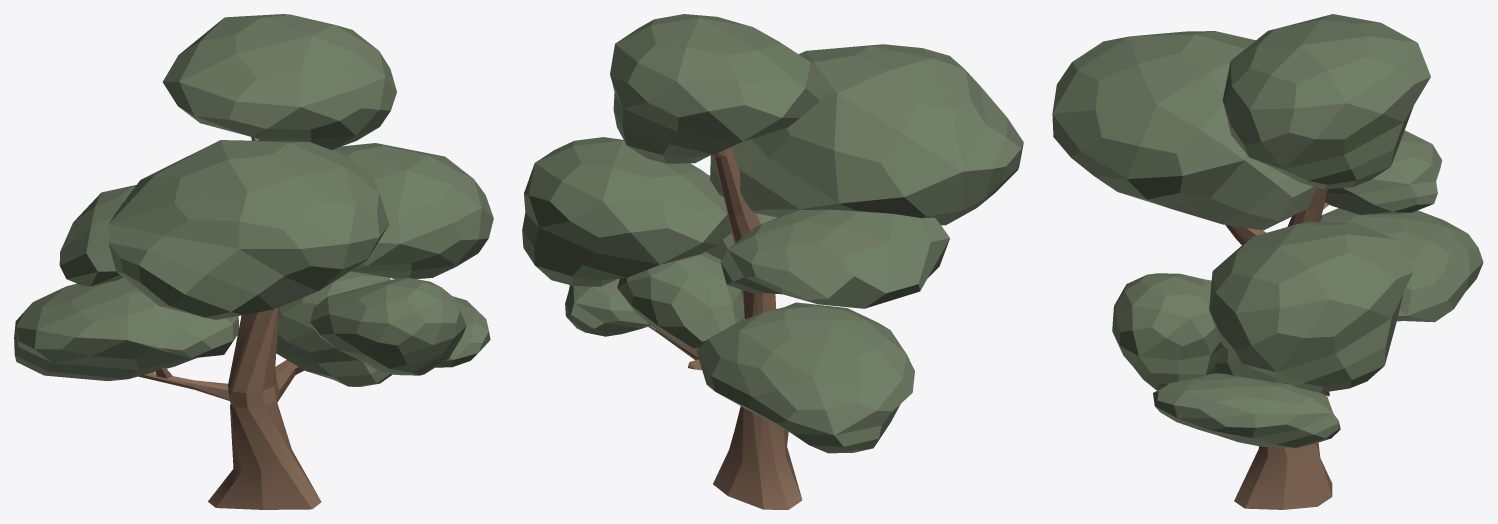
Rendered from tree_oak2.fbx.
The picture shows the model from 3 angles, left to right: view 1: azimuth 30°, elevation 25°; view 2: azimuth 150°, elevation 25°; view 3: azimuth 270°, elevation 25°; orthographic projection. The views are drawn at different scales.
Parts seen in each view (by area): view 1: pPlatonic4, pPlatonic8, pPlatonic2, pPlatonic1, tree_oak2, pPlatonic7, pPlatonic5, pPlatonic3, pPlatonic6; view 2: pPlatonic4, pPlatonic8, pPlatonic1, pPlatonic2, pPlatonic3, tree_oak2, pPlatonic5, pPlatonic6; view 3: pPlatonic4, pPlatonic8, pPlatonic1, pPlatonic6, pPlatonic7, pPlatonic2, tree_oak2, pPlatonic3, pPlatonic5.
Boxes of the visible parts, x1,y1,x2,y2 form: pPlatonic4: (108, 140, 389, 319); pPlatonic8: (163, 14, 396, 149); pPlatonic2: (14, 277, 238, 380); pPlatonic1: (332, 143, 493, 279); tree_oak2: (138, 137, 321, 509); pPlatonic7: (310, 278, 466, 375); pPlatonic5: (276, 271, 392, 386); pPlatonic3: (59, 185, 136, 286); pPlatonic6: (435, 296, 490, 367); pPlatonic4: (710, 44, 1023, 225); pPlatonic8: (610, 14, 820, 163); pPlatonic1: (522, 137, 731, 286); pPlatonic2: (696, 302, 914, 453); pPlatonic3: (721, 209, 949, 308); tree_oak2: (648, 147, 802, 509); pPlatonic5: (617, 252, 744, 348); pPlatonic6: (565, 278, 651, 336); pPlatonic4: (1052, 31, 1316, 230); pPlatonic8: (1222, 14, 1430, 189); pPlatonic1: (1209, 221, 1413, 392); pPlatonic6: (1153, 373, 1340, 447); pPlatonic7: (1112, 273, 1223, 390); pPlatonic2: (1320, 208, 1483, 322); tree_oak2: (1225, 188, 1332, 509); pPlatonic3: (1325, 130, 1442, 214); pPlatonic5: (1211, 346, 1287, 383).
Size of the model in its own units: 7.71 by 8.09 by 6.6.
